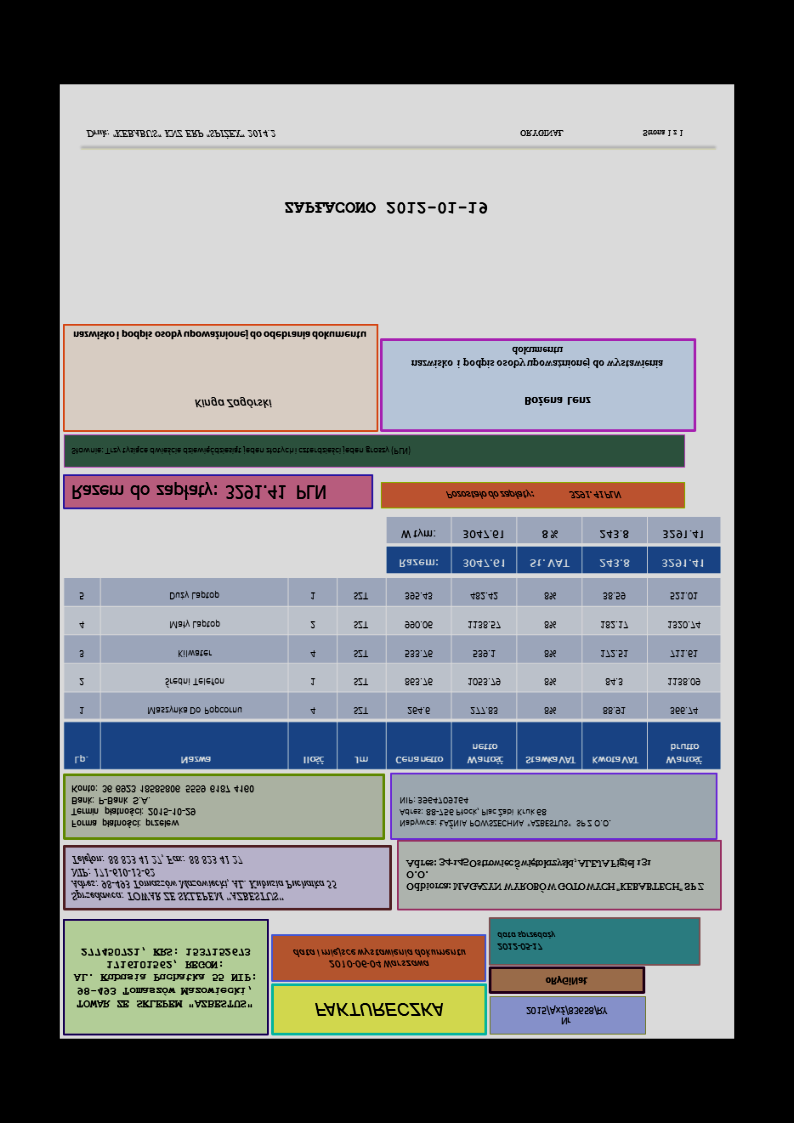Table: (63, 577, 722, 771), (385, 516, 721, 576)
TextBox: (70, 854, 338, 904), (71, 947, 257, 1010), (404, 856, 705, 893), (70, 783, 257, 830), (396, 794, 613, 831), (411, 344, 664, 371), (71, 483, 327, 503), (71, 444, 412, 457), (71, 328, 366, 343), (291, 947, 468, 970), (283, 200, 489, 217), (84, 127, 278, 141), (444, 487, 623, 502), (313, 1001, 445, 1020), (519, 127, 684, 139), (524, 1005, 610, 1028), (496, 930, 556, 953), (192, 395, 273, 412), (523, 394, 593, 408), (544, 975, 589, 988)
